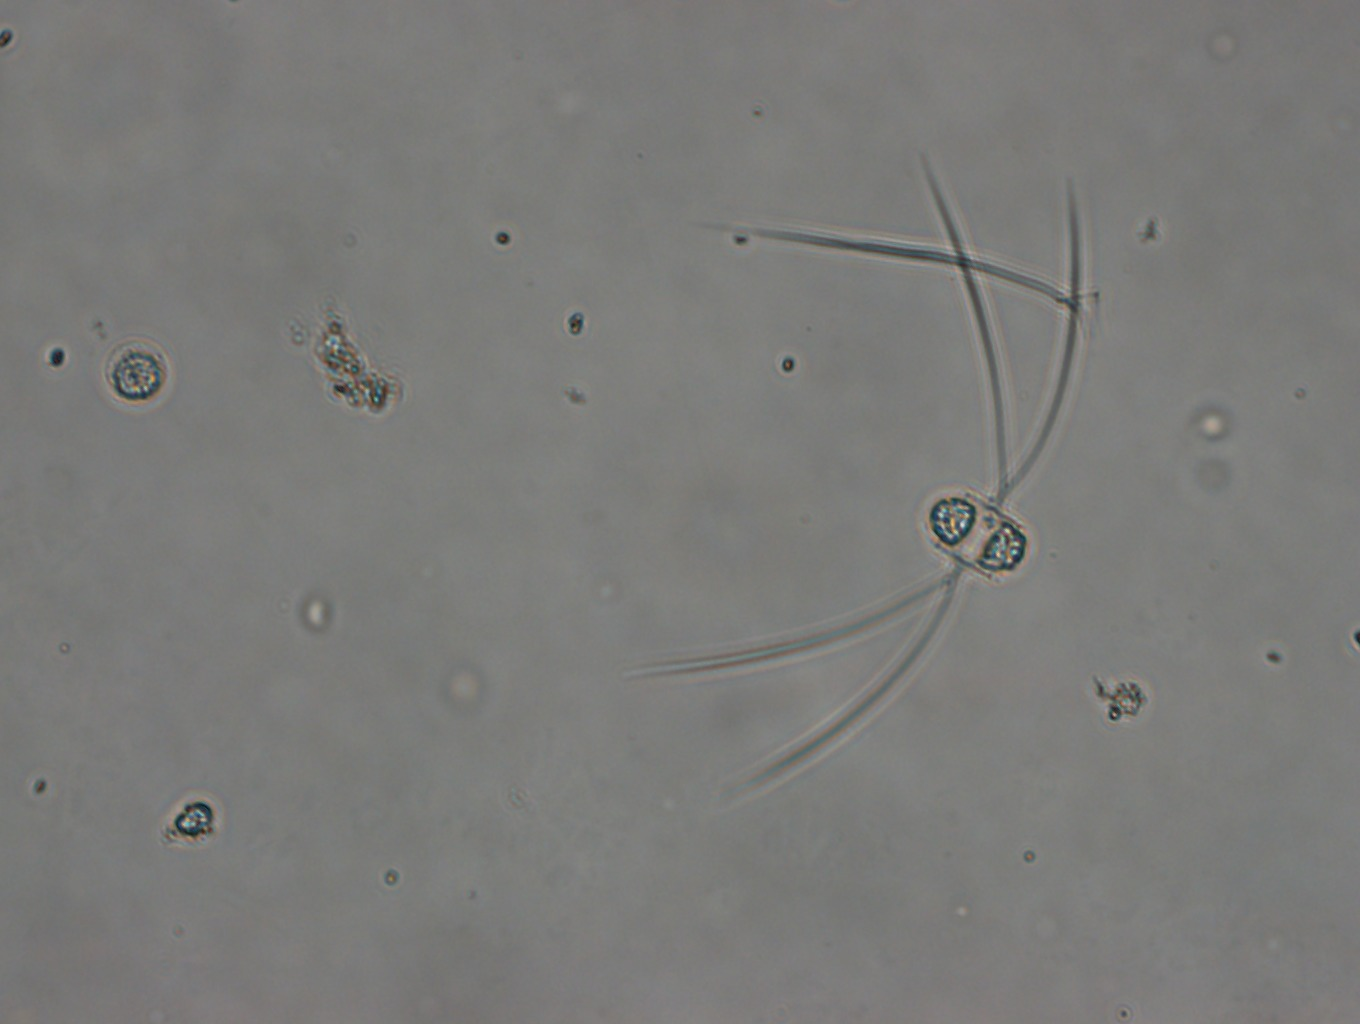chaetoceros: (611, 153, 1082, 803)
